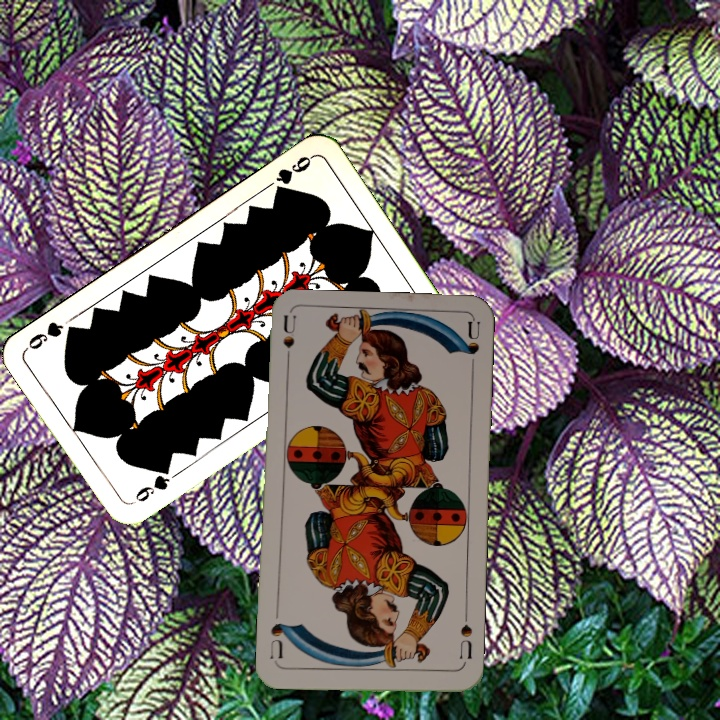G9: (270, 151, 316, 198), (127, 462, 174, 507)
SU: (279, 314, 299, 373), (455, 609, 475, 662)
